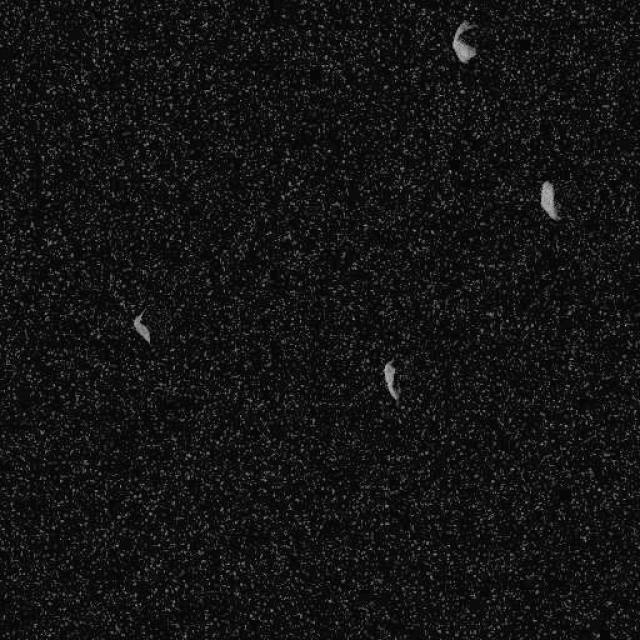D2: (450, 18, 480, 64), (539, 179, 561, 221), (381, 358, 400, 402), (131, 308, 151, 344)
